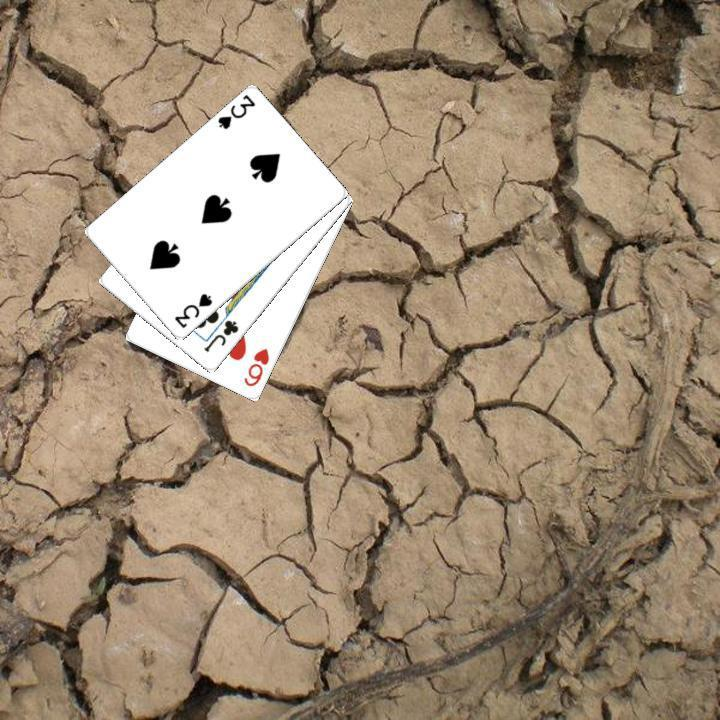3: (170, 289, 214, 331), (213, 91, 257, 132)
6: (239, 344, 271, 389)
J: (199, 316, 241, 355)
